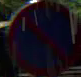No Stopping: (3, 0, 77, 76)
